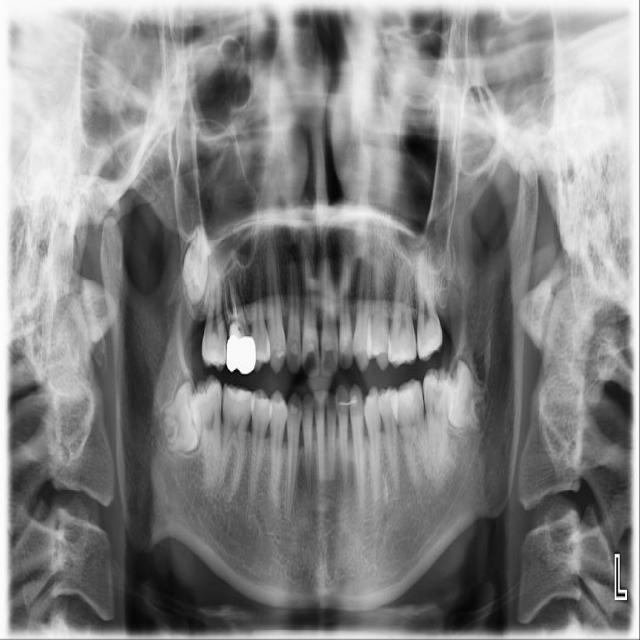3M ESPE Implant: (180, 223, 210, 305)
52: (225, 334, 257, 375)
73: (210, 268, 253, 343), (590, 530, 598, 550)
BioHorizons Implant: (413, 243, 444, 362)
Biomet 3i Implant: (441, 355, 493, 433)
Blue Sky Bio Implant: (423, 367, 456, 479)
Caries: (201, 253, 230, 370)
Implant: (189, 374, 223, 493)
Keystone Dental Implant: (159, 380, 203, 454)
